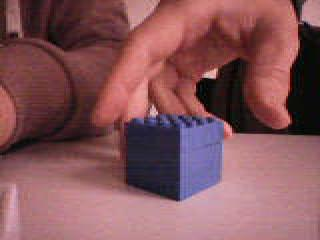legocube: (123, 112, 226, 204)
